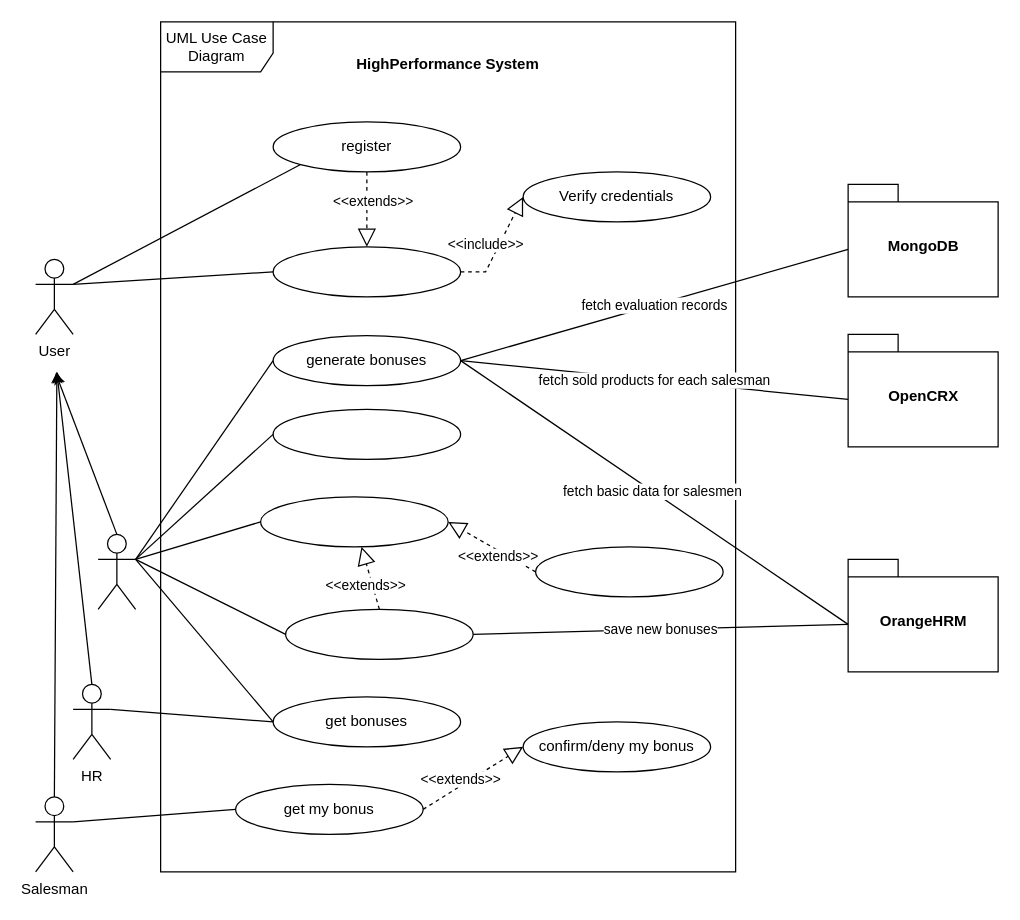
The diagram is 1020 pixels wide and 920 high, and some of its shapes have lost their labels. Here are the shapes that lost their labels. From the top down, the centre of each, then its label:
point 366,271: login
point 366,433: update bonus factors
point 353,521: confirm bonuses
point 116,571: CEO
point 628,571: send bonuses per email
point 378,633: save bonuses in OrangeHRM
